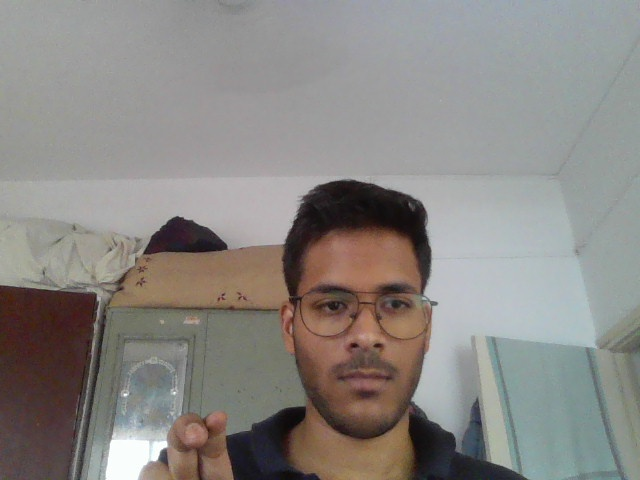no: (128, 404, 275, 479)
